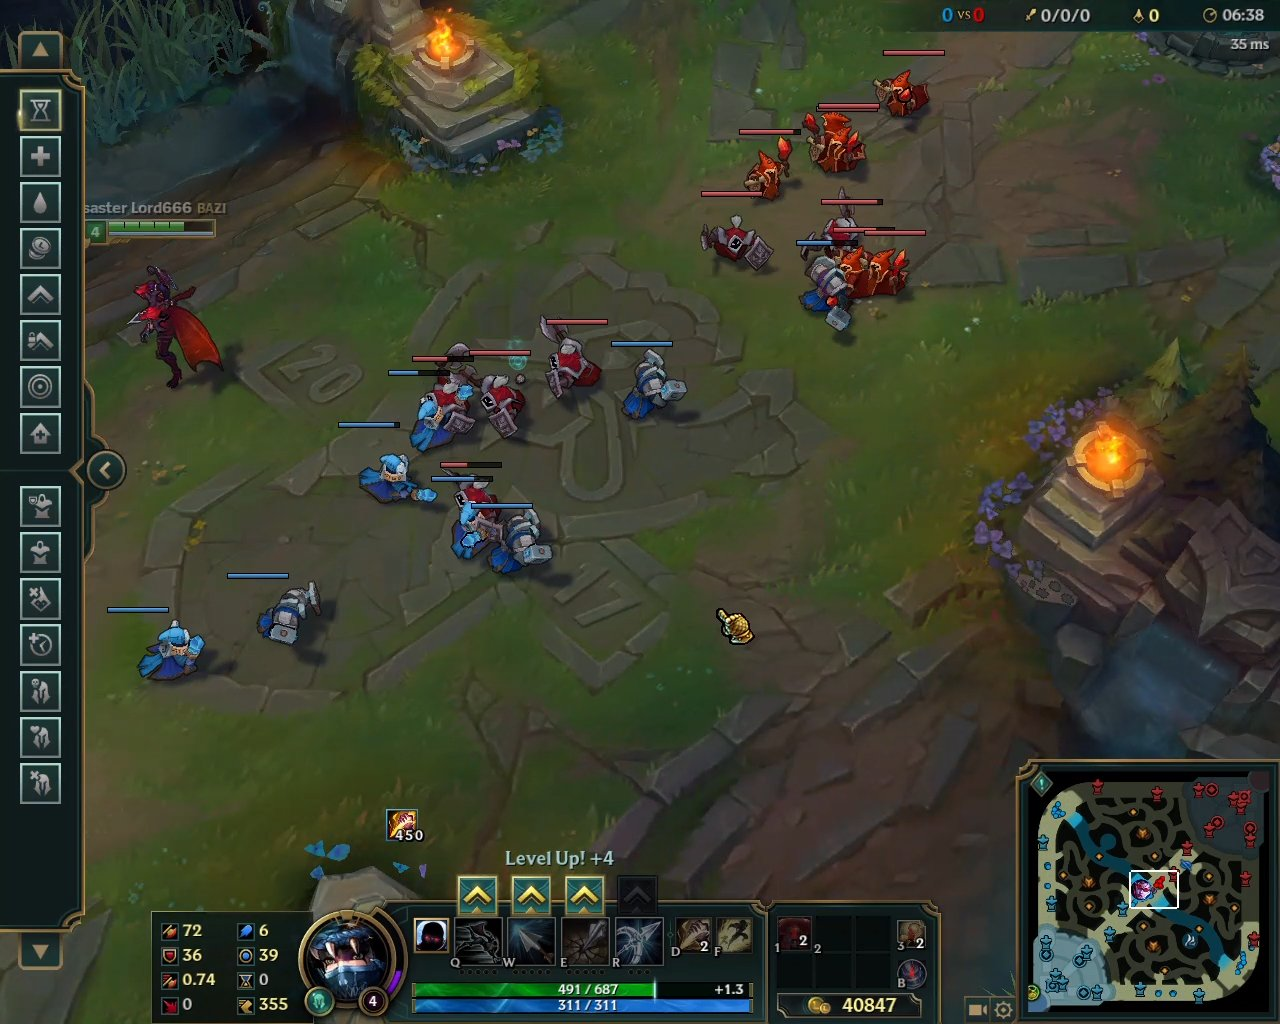EnemyMinion: (696, 192, 771, 287), (832, 228, 925, 299), (537, 315, 609, 397), (413, 344, 479, 432), (802, 104, 879, 179), (471, 350, 533, 438), (874, 48, 946, 118), (739, 127, 801, 208), (438, 462, 503, 529)
Vayne: (112, 260, 238, 393)
